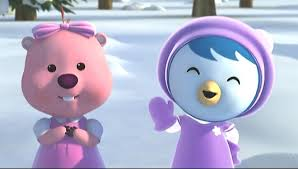Loopy: (20, 6, 112, 168)
Petty: (146, 14, 278, 169)
